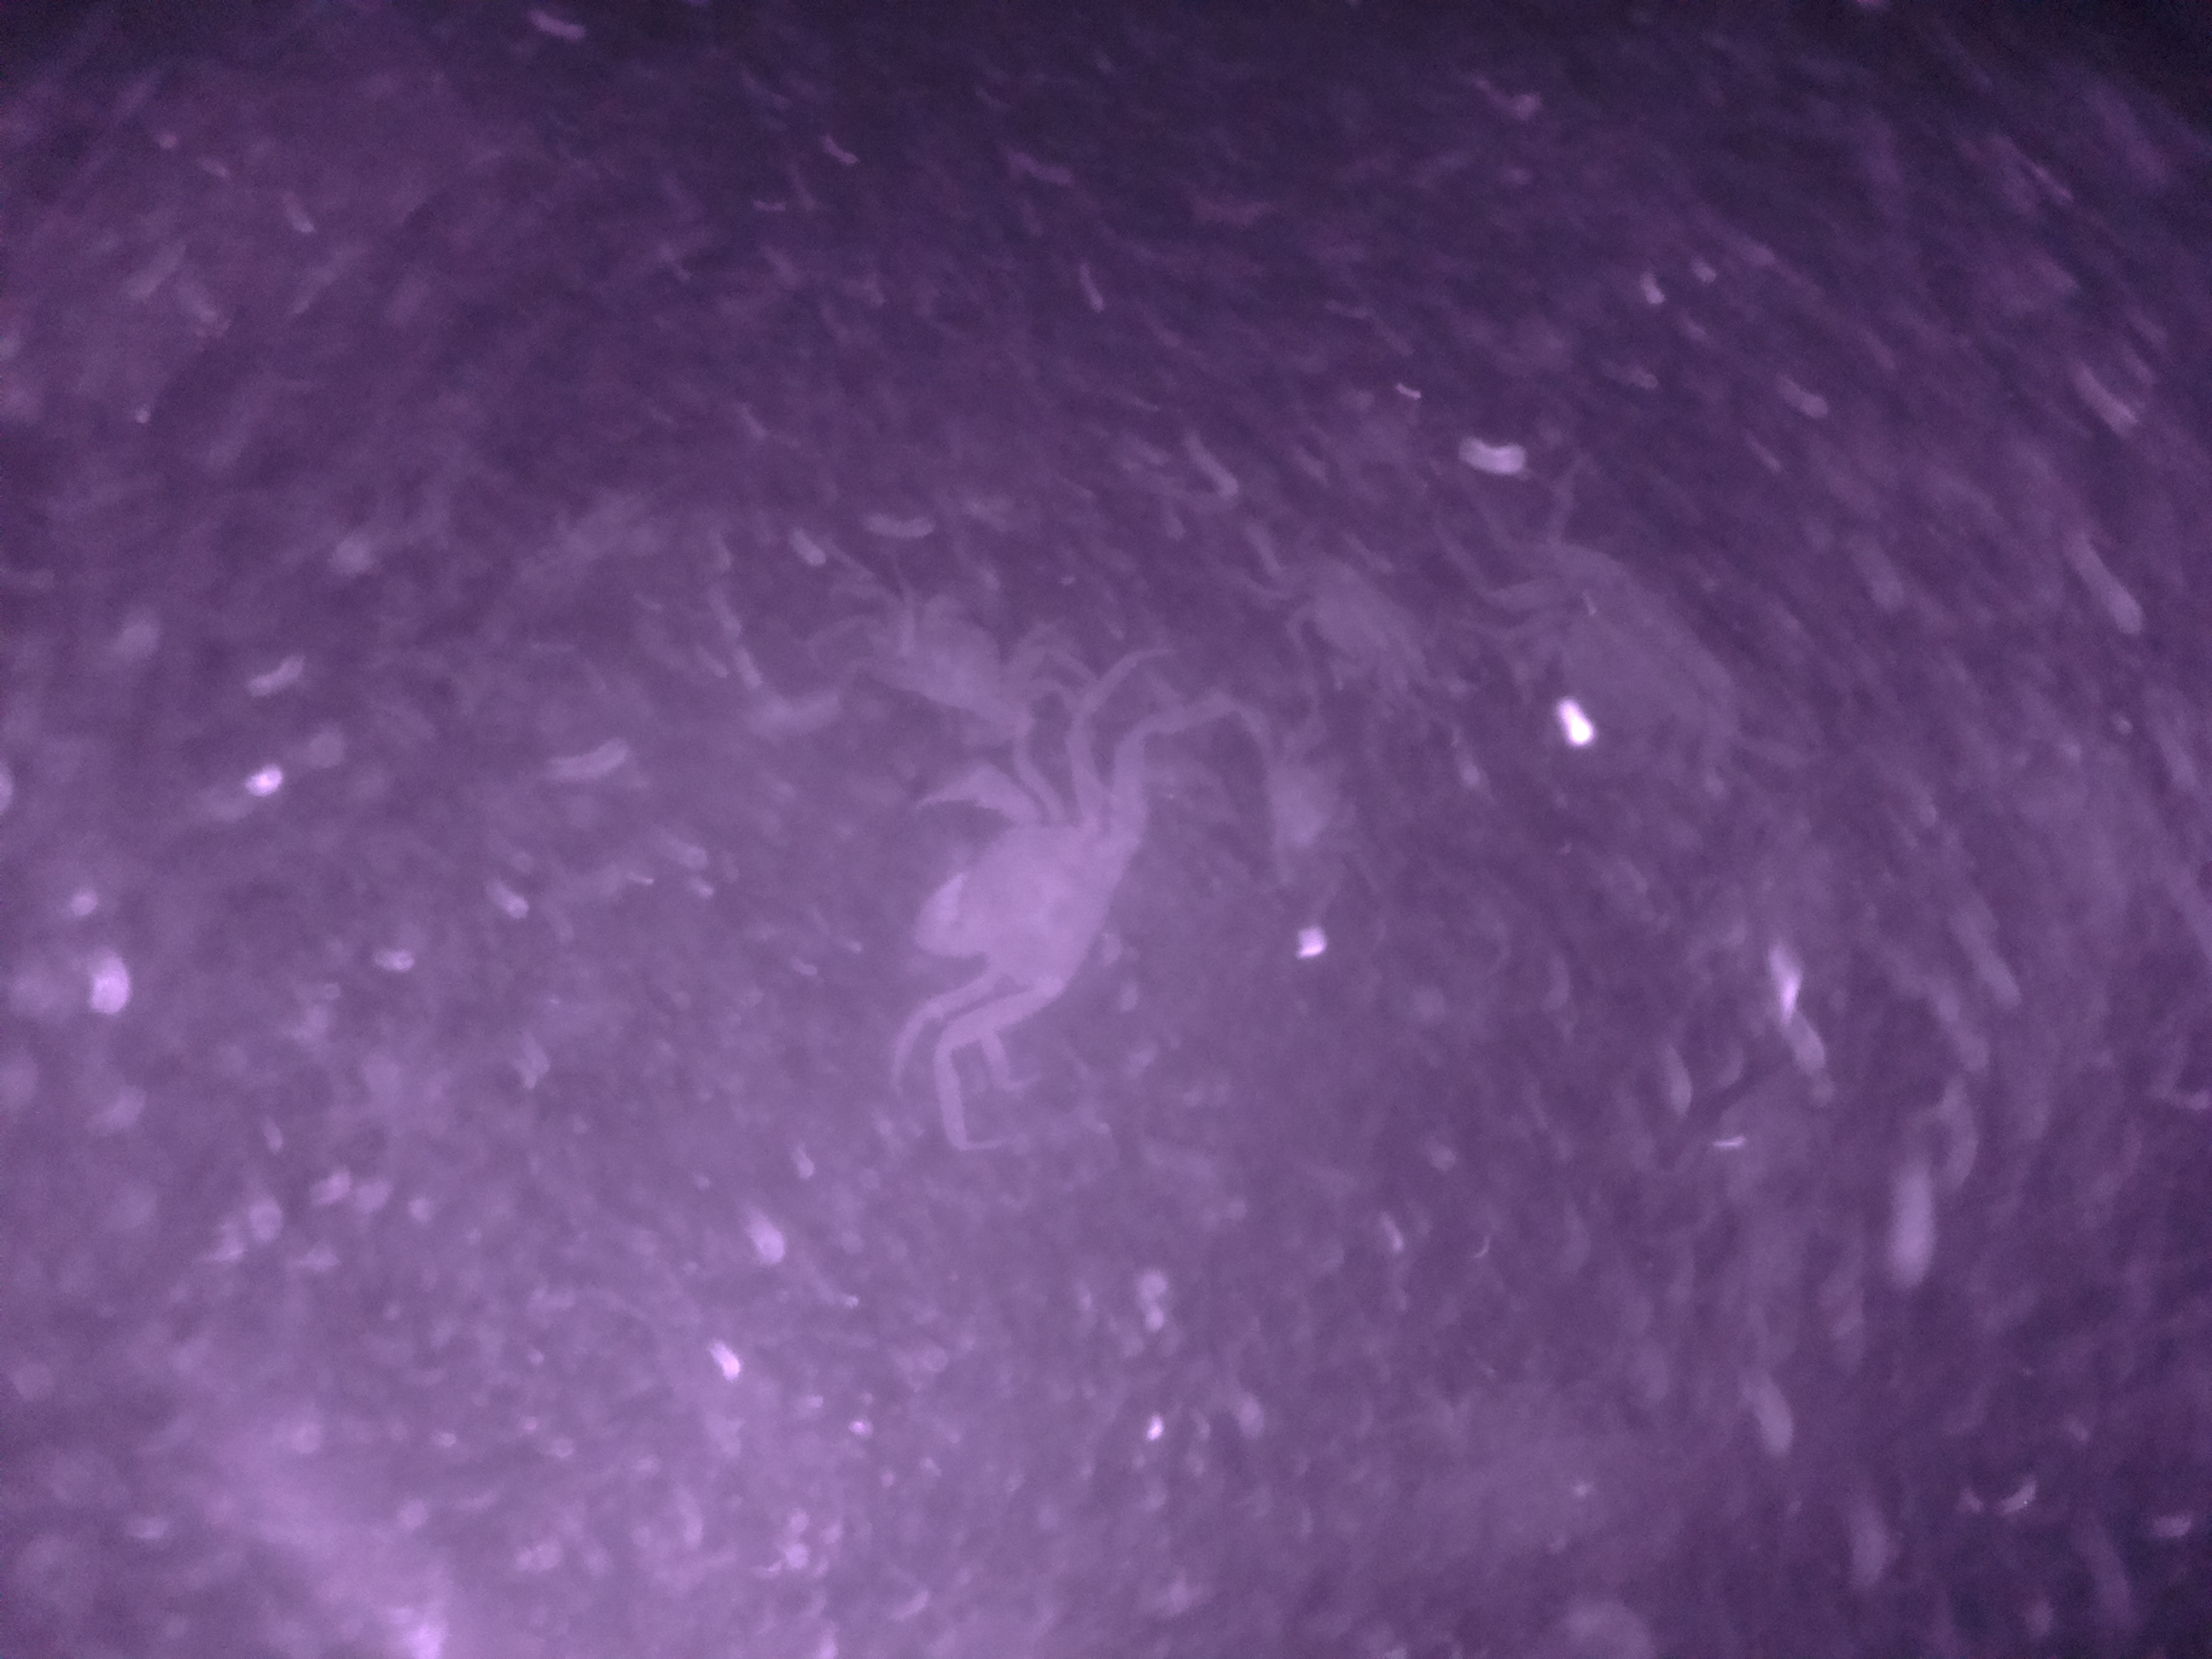Crab: (897, 741, 1179, 1018)
